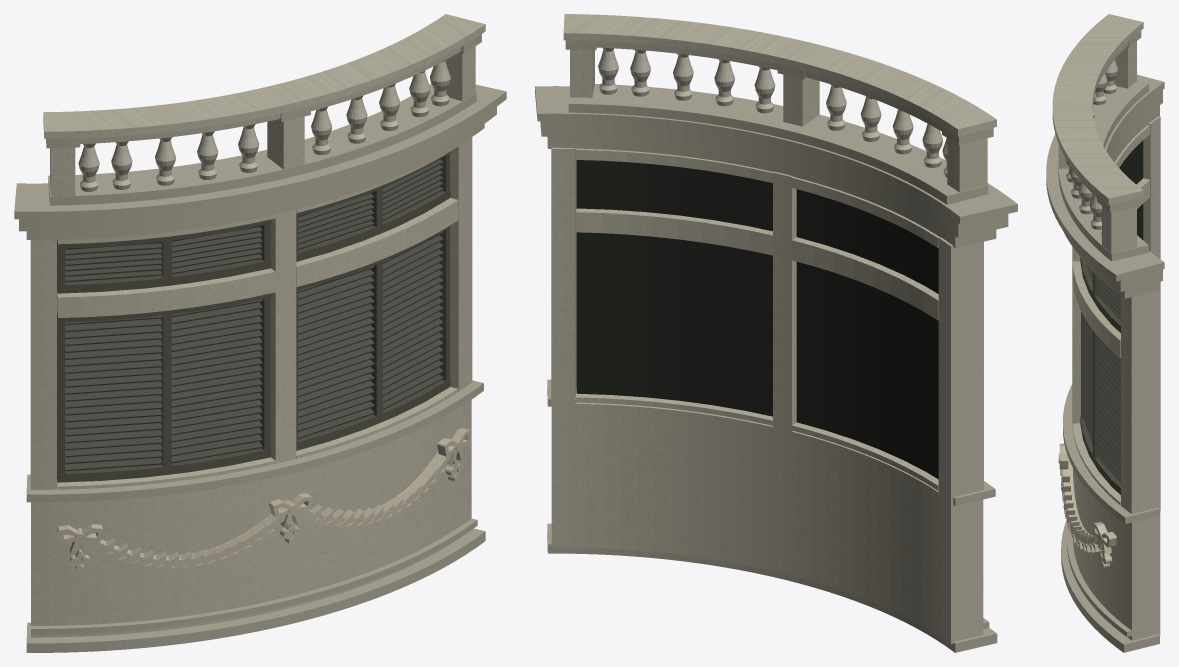
Rendered from huangpu-ying-residence-bowed-shutters-and-garlands-raw.glb.
The picture shows the model from 3 angles, left to right: view 1: azimuth 30°, elevation 25°; view 2: azimuth 150°, elevation 25°; view 3: azimuth 270°, elevation 25°; orthographic projection. The views are drawn at different scales.
Parts seen in each view (by area): view 1: 应公馆园侧弧形百叶凸窗与垂花窗裙; view 2: 应公馆园侧弧形百叶凸窗与垂花窗裙; view 3: 应公馆园侧弧形百叶凸窗与垂花窗裙.
Part boxes in pixels (left/top/right/bottom): 应公馆园侧弧形百叶凸窗与垂花窗裙: left=14, top=14, right=506, bottom=652; 应公馆园侧弧形百叶凸窗与垂花窗裙: left=535, top=14, right=1017, bottom=652; 应公馆园侧弧形百叶凸窗与垂花窗裙: left=1046, top=14, right=1164, bottom=652.
Size of the model in its own units: 4.01 by 4.09 by 0.975.
Materials: 7 (1 with a texture image).
